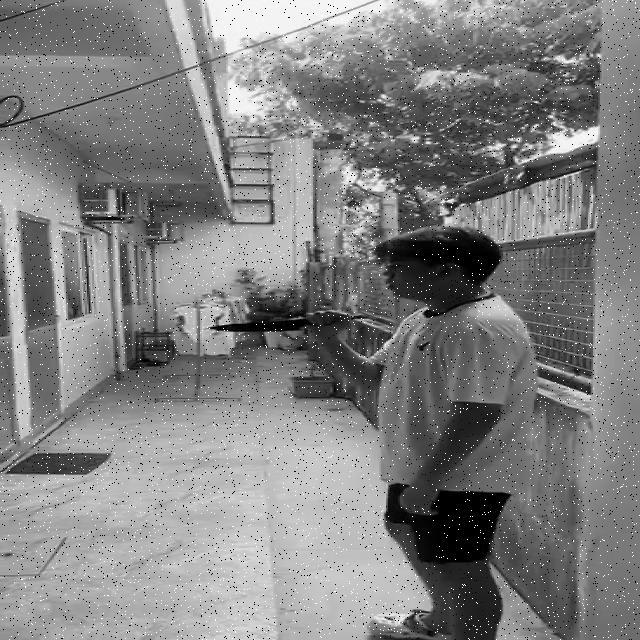knife: (208, 319, 309, 331)
non-violence: (204, 230, 542, 640)
